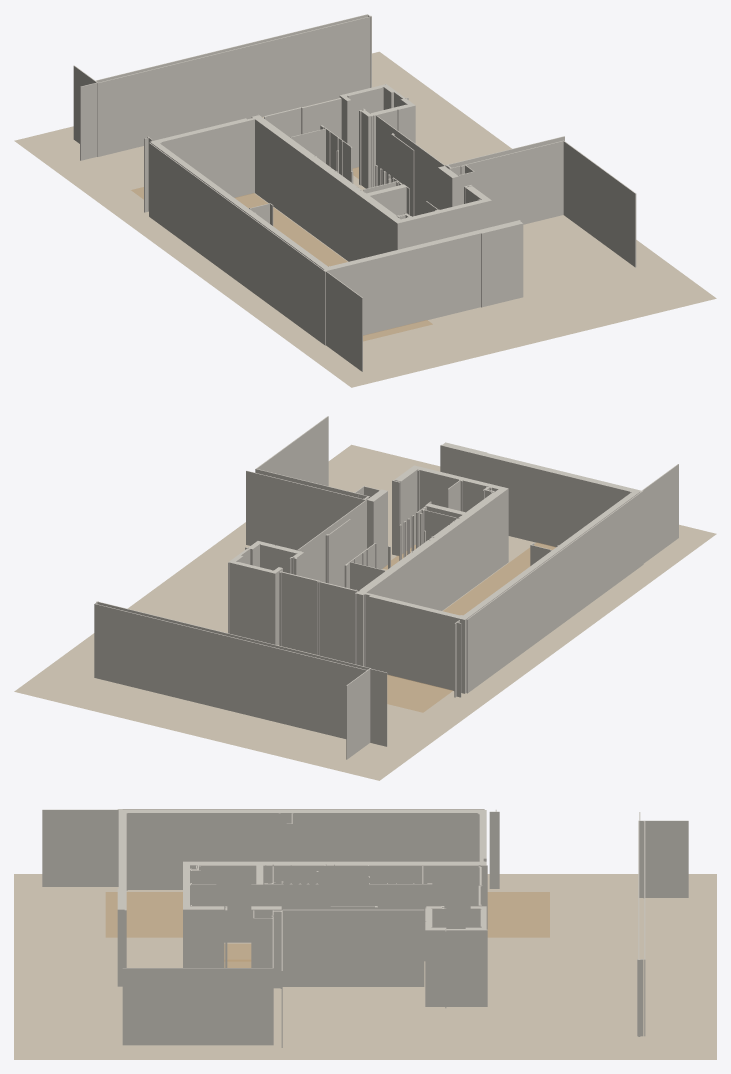
File: rf_interior.glb
The picture shows the model from 3 angles, top to bottom: view 1: azimuth 30°, elevation 25°; view 2: azimuth 150°, elevation 25°; view 3: azimuth 270°, elevation 25°; orthographic projection. The views are drawn at different scales.
Parts seen in each view (by area): view 1: MeshStandardMaterial_1, MeshStandardMaterial_0, MeshStandardMaterial_5; view 2: MeshStandardMaterial_1, MeshStandardMaterial_0, MeshStandardMaterial_5; view 3: MeshStandardMaterial_1, MeshStandardMaterial_0, MeshStandardMaterial_5, MeshStandardMaterial_3.
Boxes of the visible parts, x1,y1,x2,y2 form: MeshStandardMaterial_1: (73, 14, 636, 371); MeshStandardMaterial_0: (14, 51, 716, 387); MeshStandardMaterial_5: (131, 187, 432, 341); MeshStandardMaterial_1: (94, 416, 678, 759); MeshStandardMaterial_0: (14, 444, 716, 780); MeshStandardMaterial_5: (387, 542, 555, 712); MeshStandardMaterial_1: (42, 809, 688, 1047); MeshStandardMaterial_0: (14, 874, 716, 1059); MeshStandardMaterial_5: (105, 892, 549, 937); MeshStandardMaterial_3: (224, 943, 251, 961).
Size of the model in its own units: 15.54 by 3 by 24.85.
